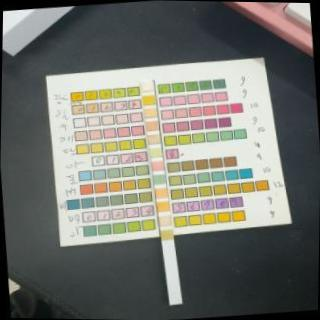mark: (154, 174, 166, 185), (158, 202, 170, 212), (156, 188, 168, 198), (146, 120, 158, 130), (162, 229, 172, 240), (160, 216, 171, 226), (153, 160, 163, 170), (152, 148, 162, 158), (150, 134, 160, 144), (146, 108, 156, 118), (144, 96, 154, 106), (143, 82, 153, 92)
